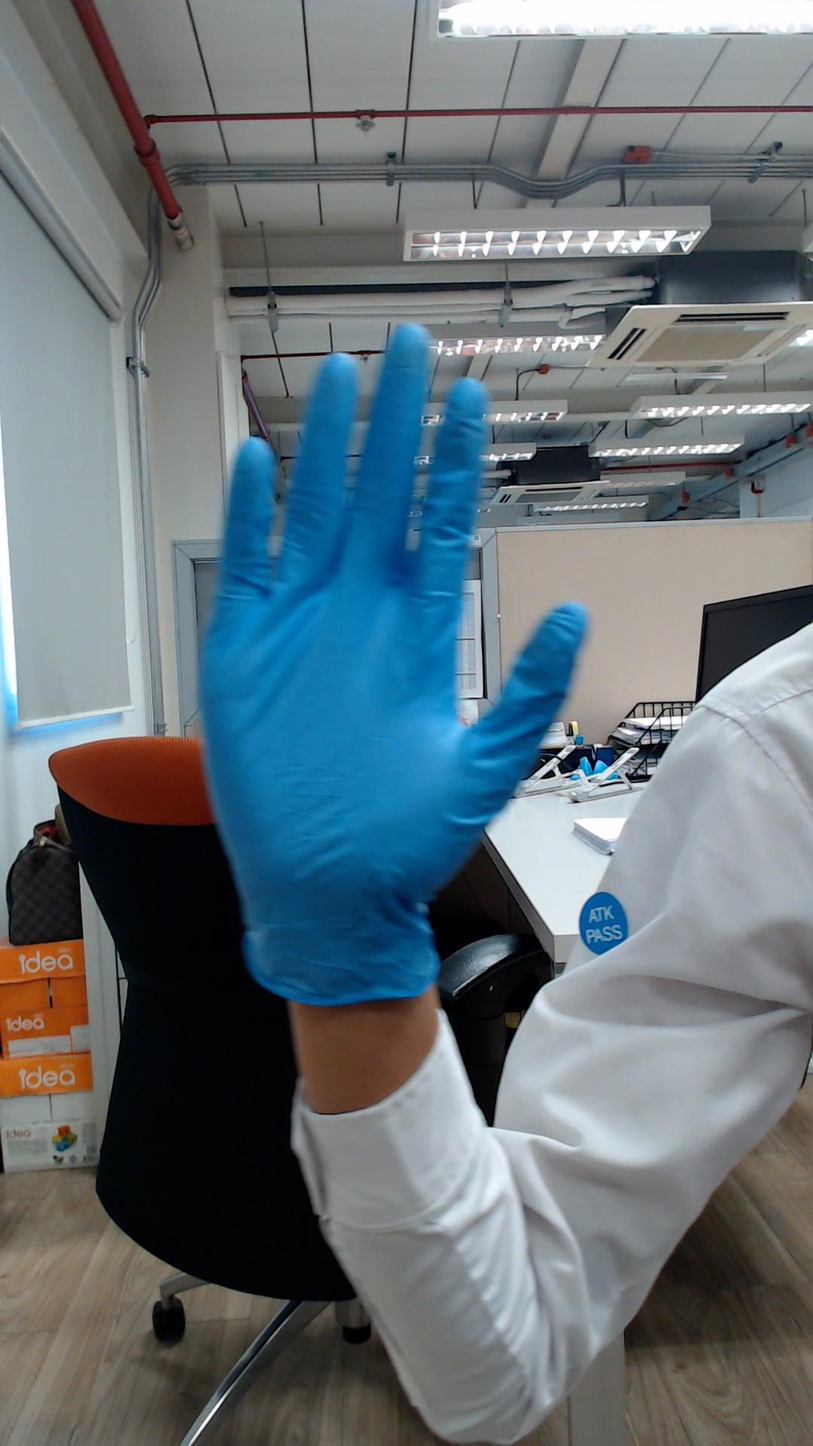gloves: (167, 279, 601, 876)
